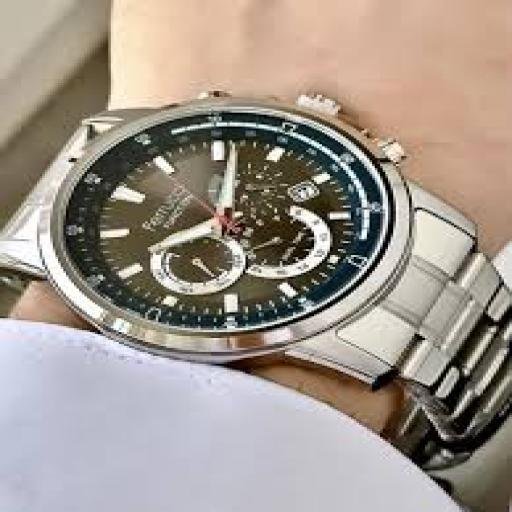KolSaati: (29, 28, 512, 468)
